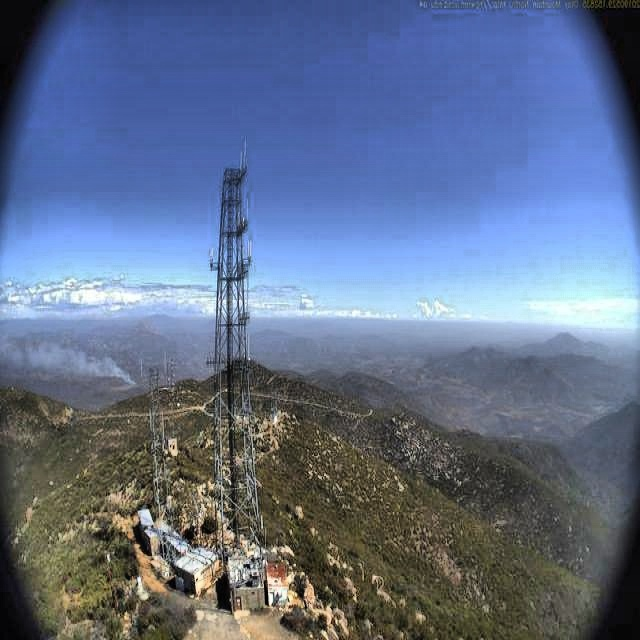smoke: (5, 335, 138, 389)
